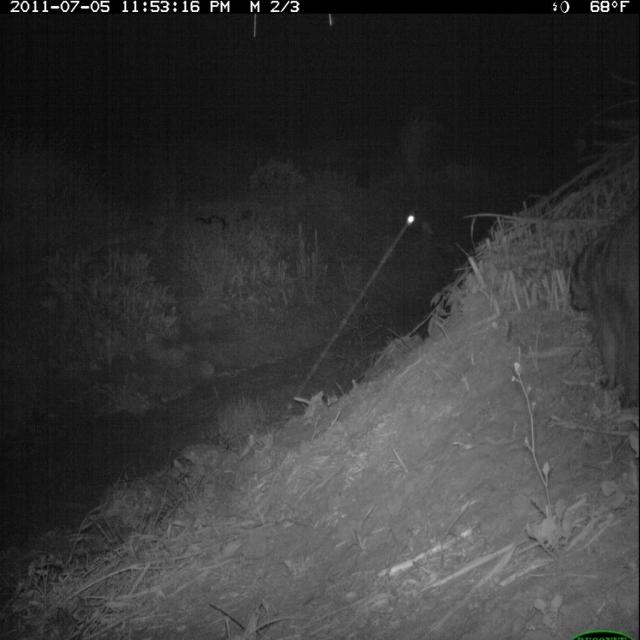raccoon: (563, 198, 640, 417)
